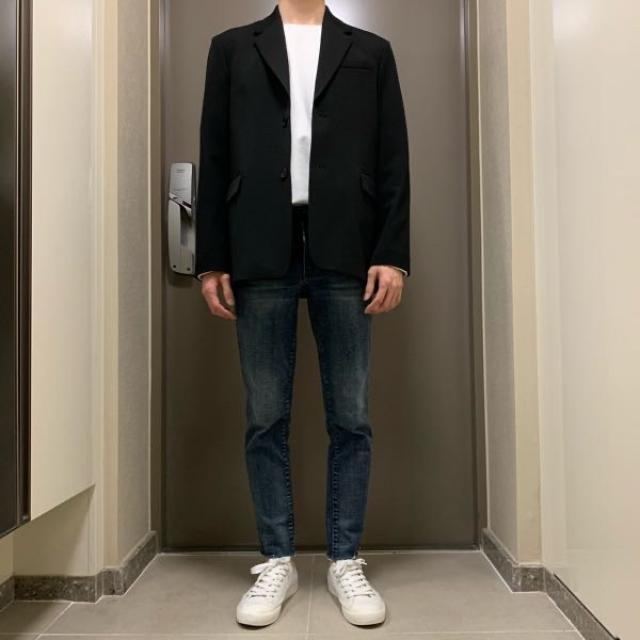blazer: (193, 1, 409, 286)
denimpants: (231, 200, 376, 564)
